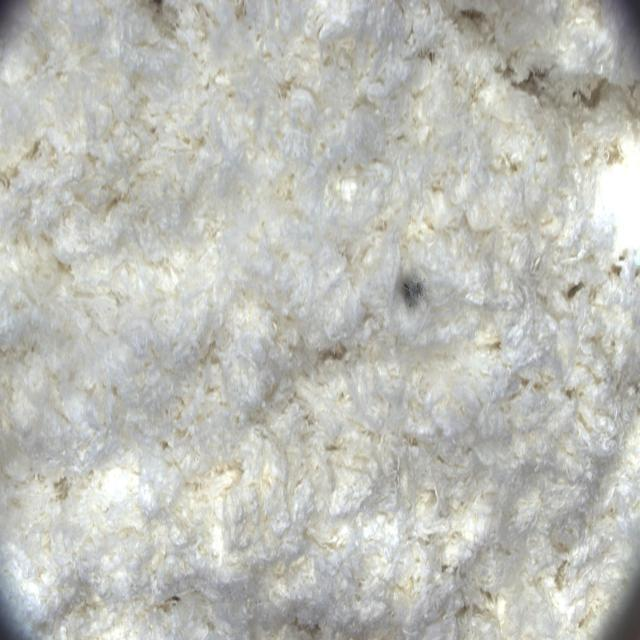dust: (372, 253, 442, 323)
